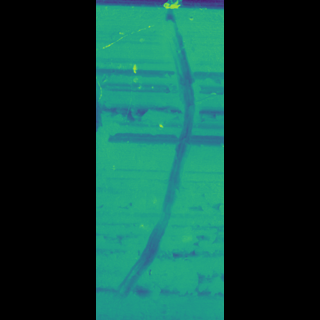Loch: (137, 0, 181, 315)
